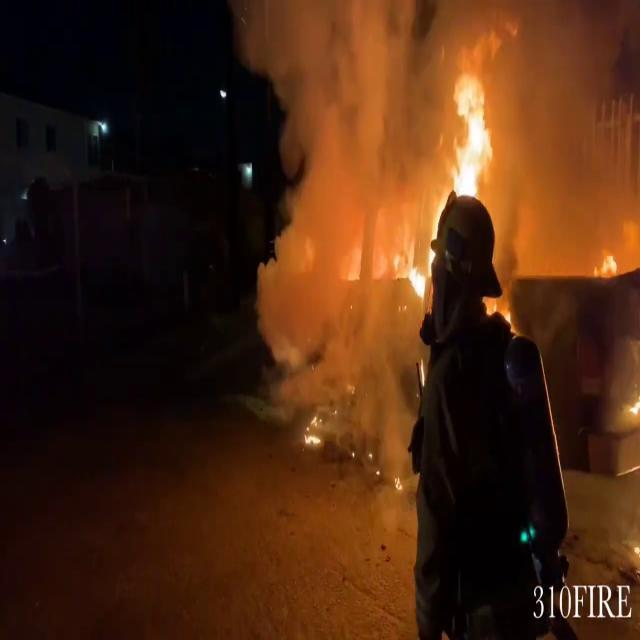Fire: (446, 66, 504, 191)
Smoke: (242, 0, 639, 277)
